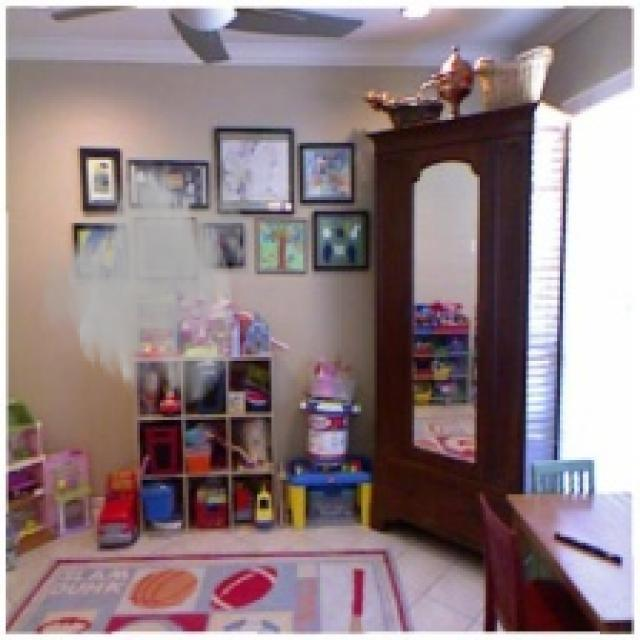Smoke: (34, 132, 263, 408)
